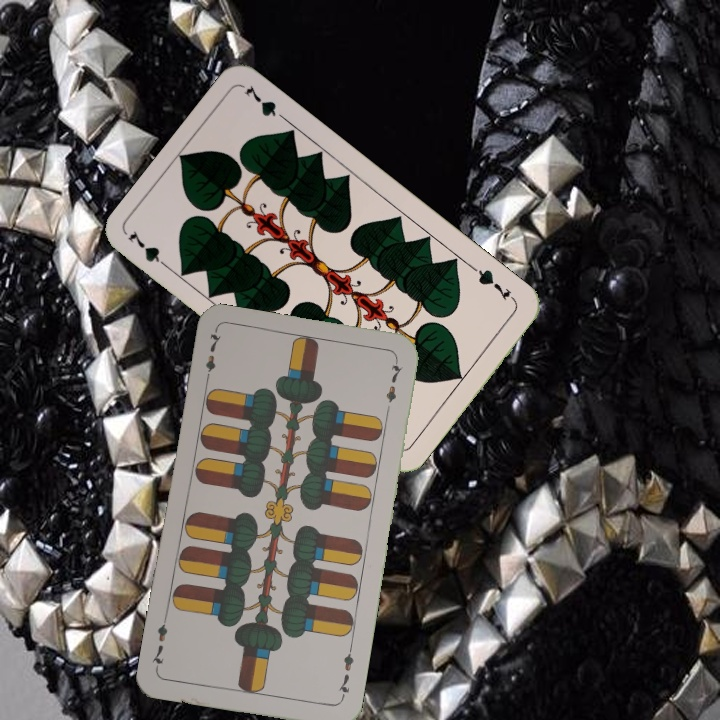E7: (201, 328, 224, 387), (334, 644, 356, 703)
G7: (123, 226, 174, 273), (468, 263, 518, 305)
